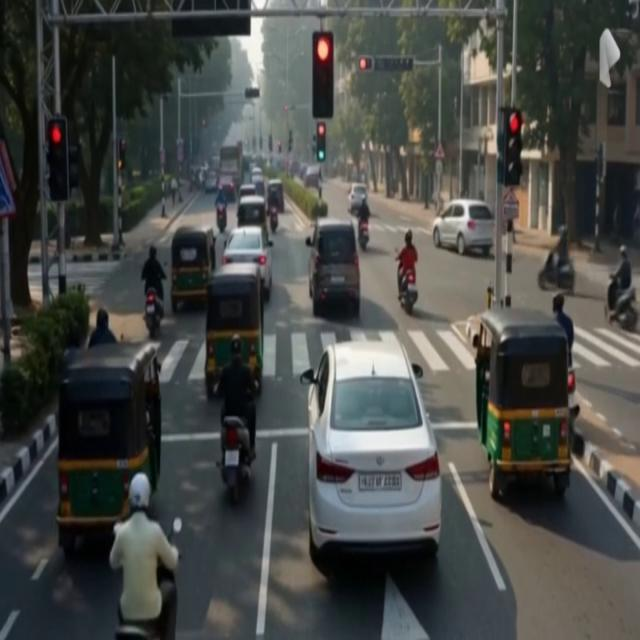car: (300, 342, 441, 566), (306, 217, 360, 317), (222, 227, 272, 301), (432, 200, 494, 255), (348, 184, 367, 214), (219, 175, 236, 202), (303, 166, 319, 188), (204, 172, 218, 194), (239, 184, 256, 199), (251, 167, 262, 180)
scooty: (218, 416, 251, 503), (605, 274, 637, 332), (538, 254, 575, 294), (568, 367, 580, 447), (145, 288, 162, 339), (115, 621, 163, 639), (400, 272, 417, 314), (358, 220, 369, 250), (217, 204, 226, 232), (269, 207, 278, 232)
traffic signal: (312, 32, 334, 118), (47, 117, 69, 202), (502, 108, 523, 186), (68, 141, 80, 192), (316, 122, 325, 162), (118, 139, 126, 171), (359, 56, 373, 71), (245, 88, 259, 99), (288, 129, 292, 153), (268, 134, 273, 153), (312, 134, 316, 153), (277, 141, 281, 153), (259, 136, 262, 151), (202, 119, 206, 127)
truck: (220, 142, 242, 190)
